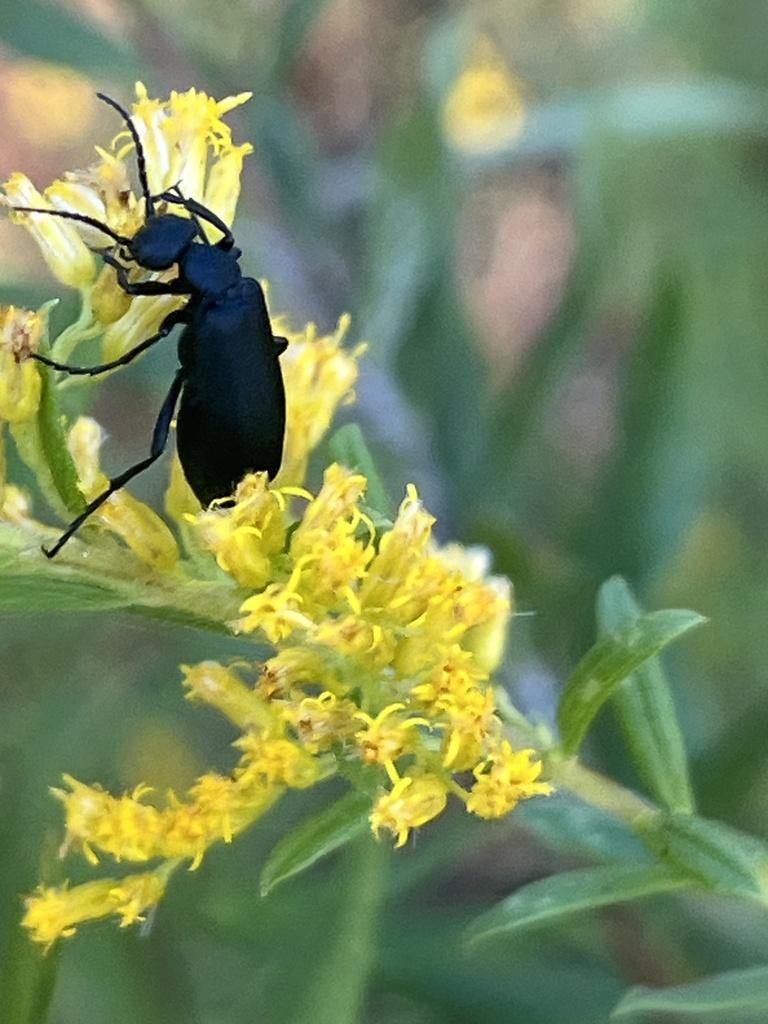blister_beetle: (0, 52, 435, 622)
